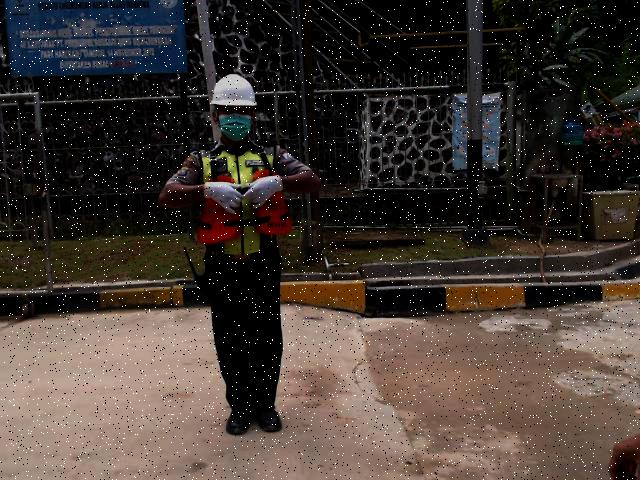gloves: (243, 175, 284, 209), (202, 181, 244, 214)
helmet: (208, 72, 260, 107)
mask: (218, 114, 253, 140)
safety-shoes: (224, 408, 253, 436), (253, 406, 284, 432)
vest: (196, 167, 294, 246)
